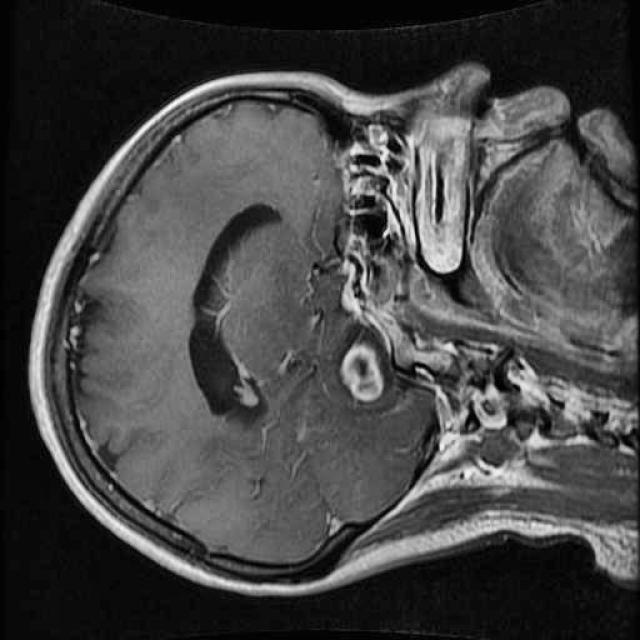Non-Tumor: (324, 322, 409, 419)
